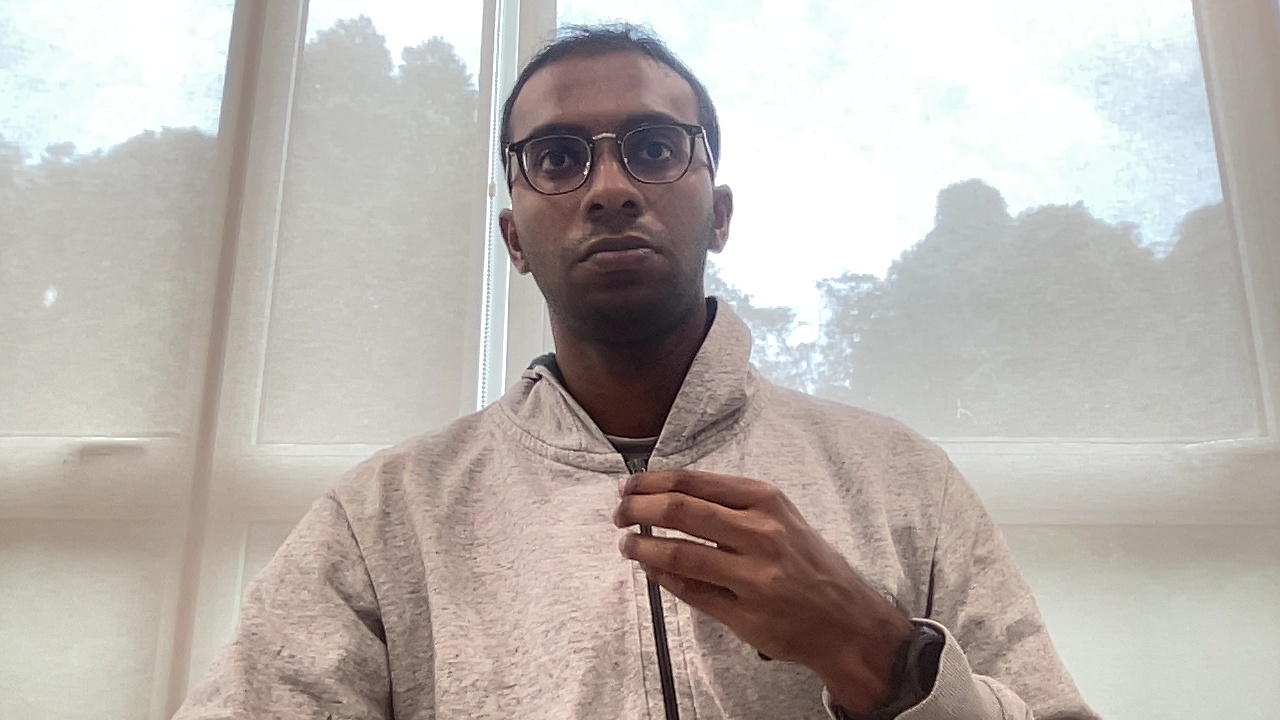drink: (610, 466, 867, 676)
